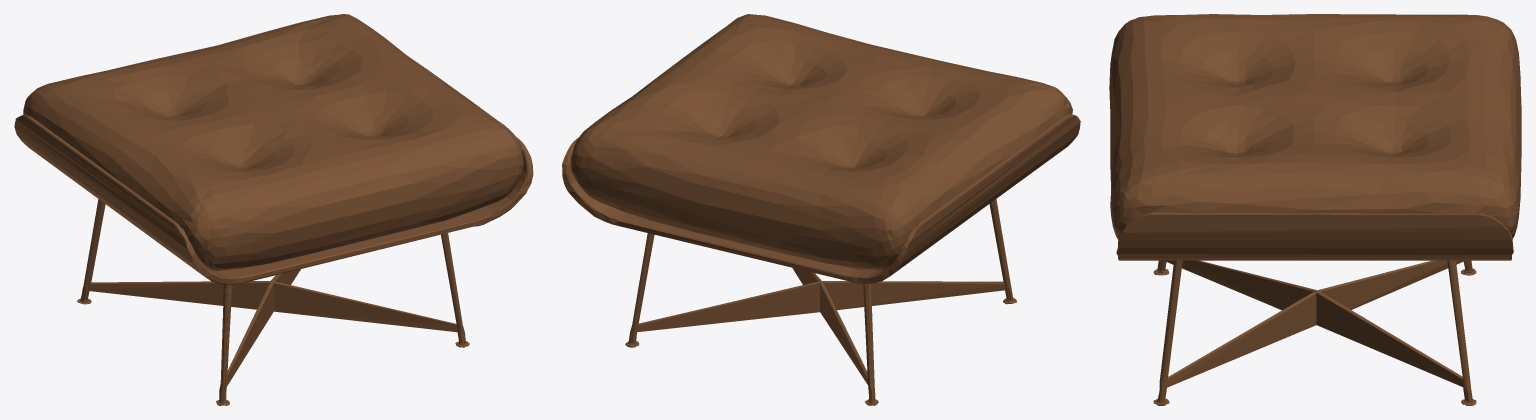
The model's file is gen-ottoman-leather-plywood-1.glb.
3 renders of one model, left to right at view 1: azimuth 30°, elevation 25°; view 2: azimuth 150°, elevation 25°; view 3: azimuth 270°, elevation 25°, orthographic. The views are drawn at different scales.
Parts seen in each view (by area): view 1: gen-ottoman-leather-plywood-1_part1; view 2: gen-ottoman-leather-plywood-1_part1; view 3: gen-ottoman-leather-plywood-1_part1.
Boxes of the visible parts, x1,y1,x2,y2 form: gen-ottoman-leather-plywood-1_part1: (14,14,533,405); gen-ottoman-leather-plywood-1_part1: (562,14,1080,405); gen-ottoman-leather-plywood-1_part1: (1109,14,1521,405).
Bounding box in the file's own units: 703 × 430 × 653.
